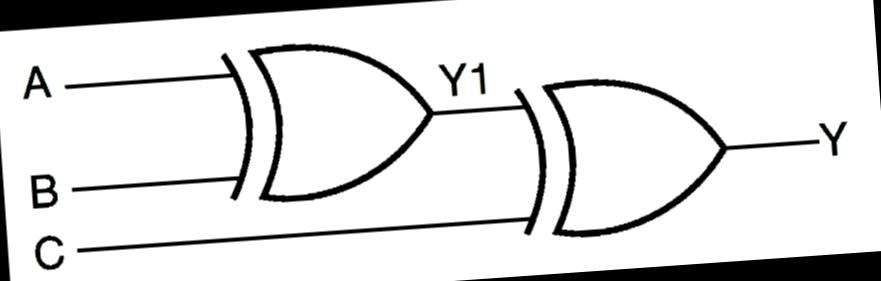xor: (500, 60, 742, 248), (205, 23, 445, 210)
